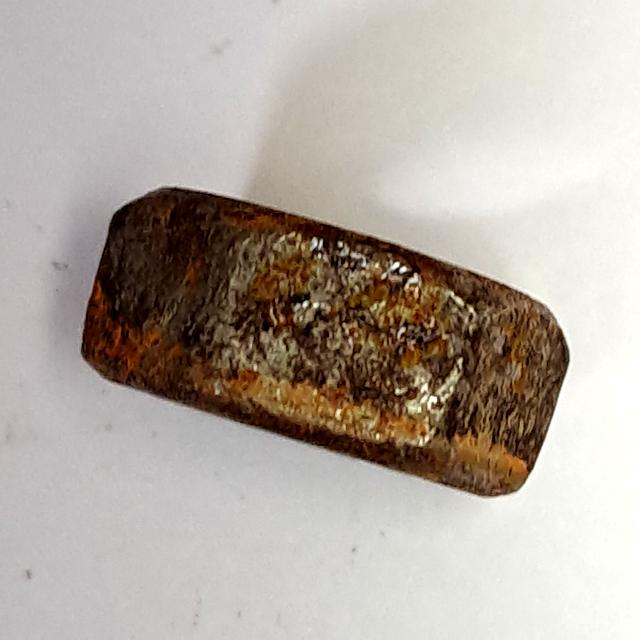Side_Rust: (57, 173, 583, 511)
